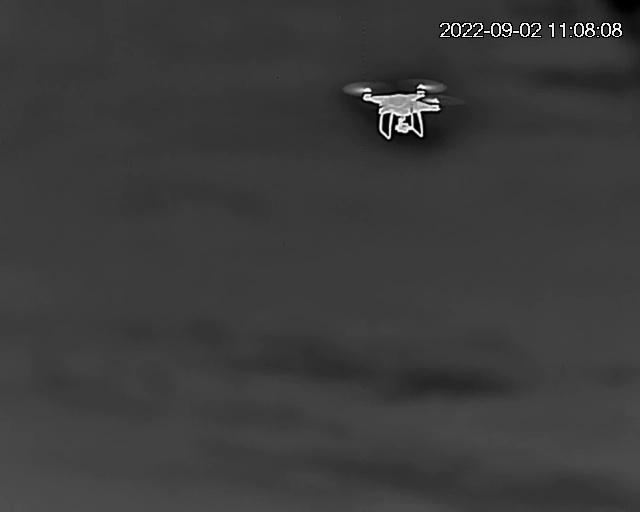DJI-Phantom: (351, 82, 441, 139)
